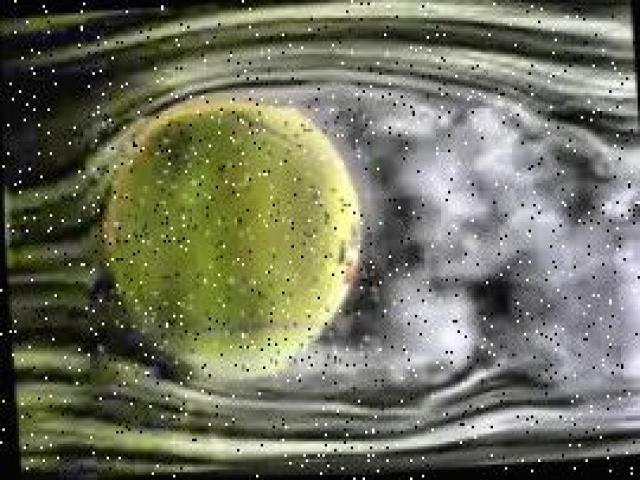tennis-ball: (82, 104, 365, 384)
